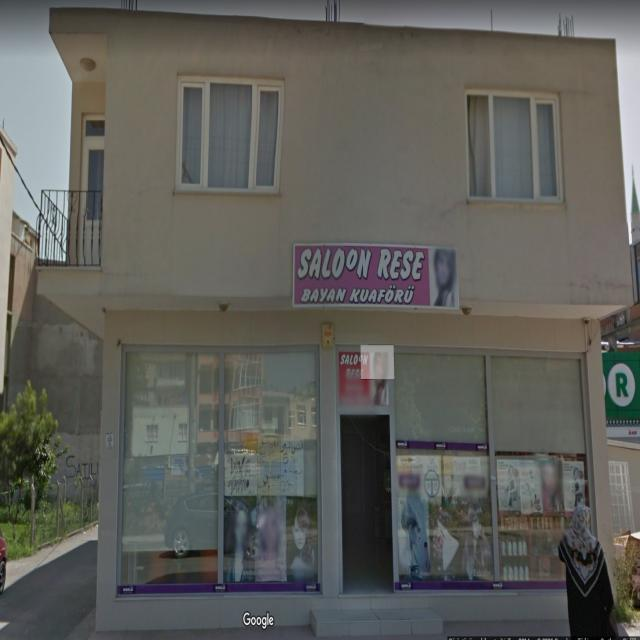Building: (35, 7, 634, 630)
